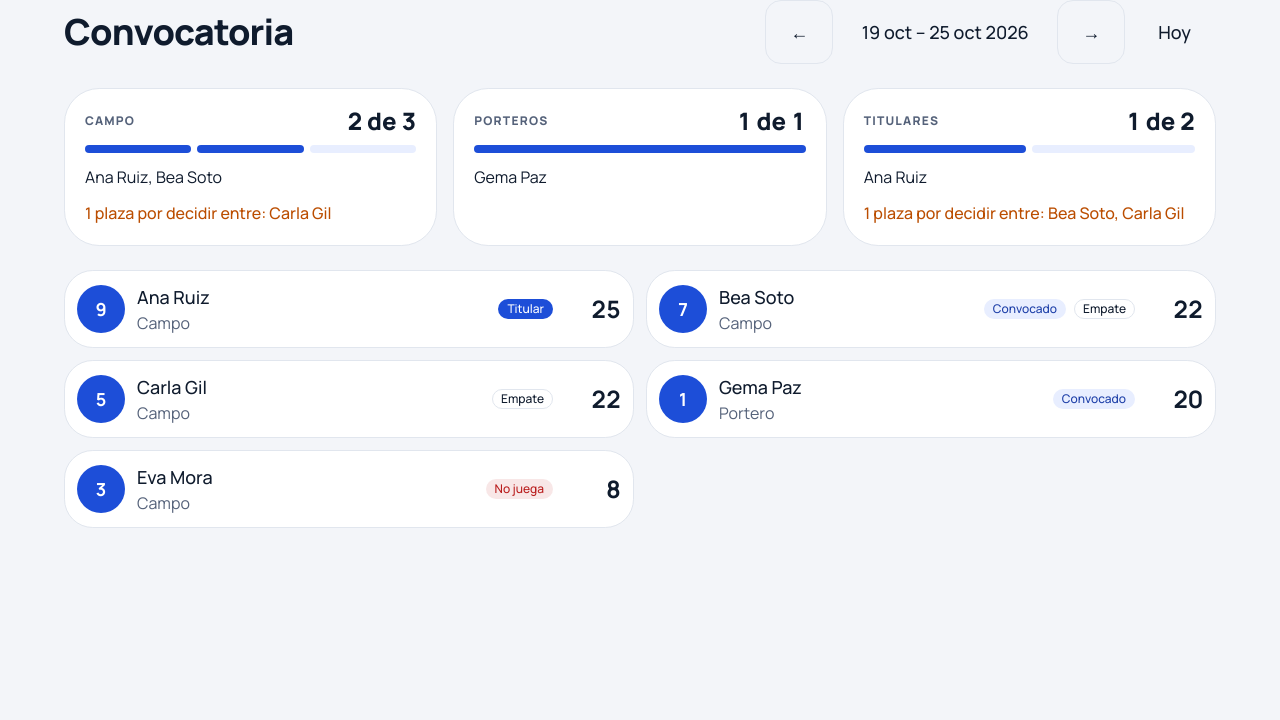
Test: ConvocatoriaPage › abre el desglose de un jugador con la base, los movimientos y el total
What coordinates should you click on to do the following:
click the button "9 Ana Ruiz Campo Titular 25"
I would click on:
 (101, 309)
Its box is [64,270,634,348].
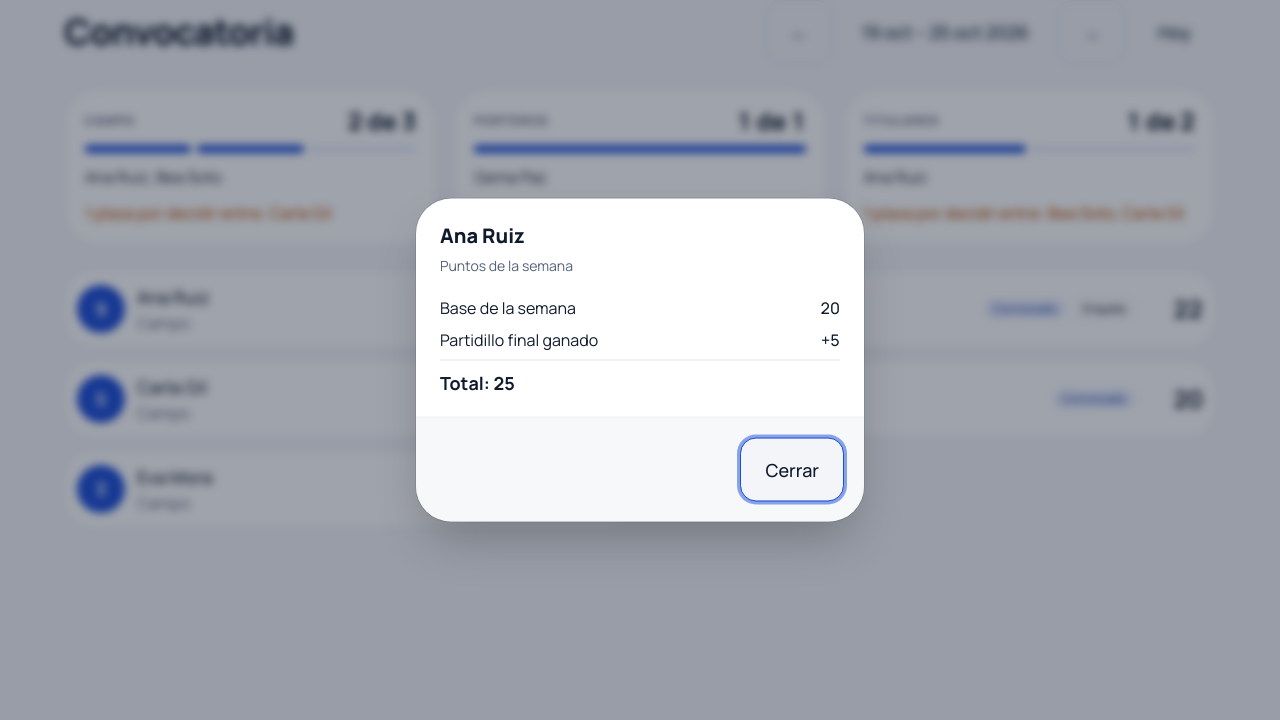
Check: the text "Base de la semana" is shown, box [440,296,576,320]
Check: the text "Partidillo final ganado" is shown, box [440,328,598,352]
Check: the text "+5" is shown, box [821,328,840,352]
